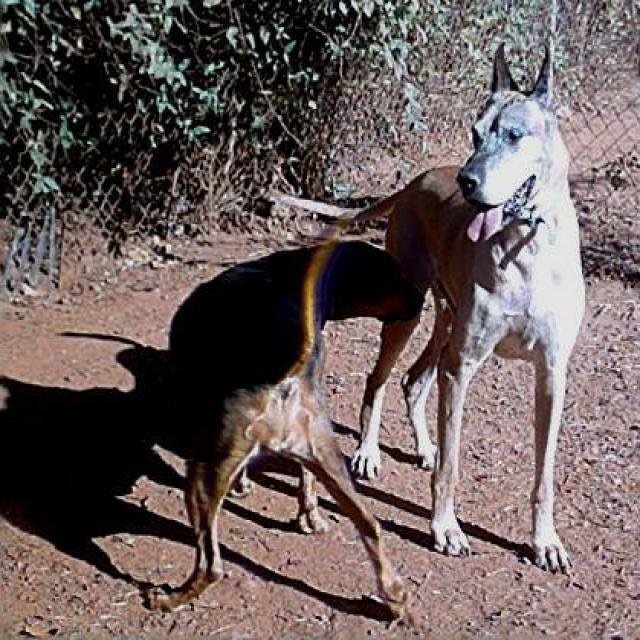Dog: (452, 38, 568, 246)
